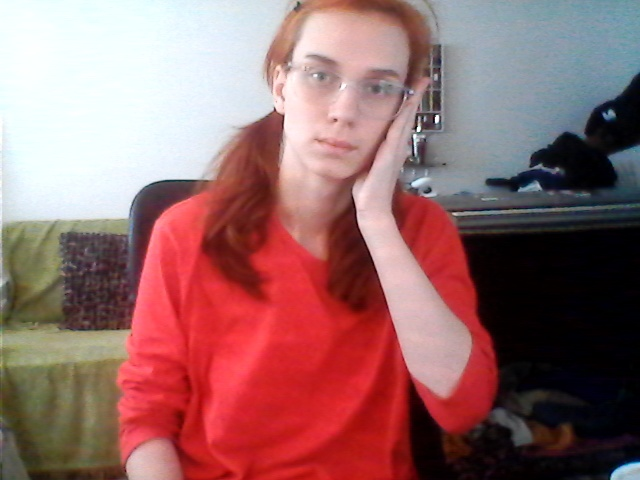lezat: (359, 76, 436, 242)
